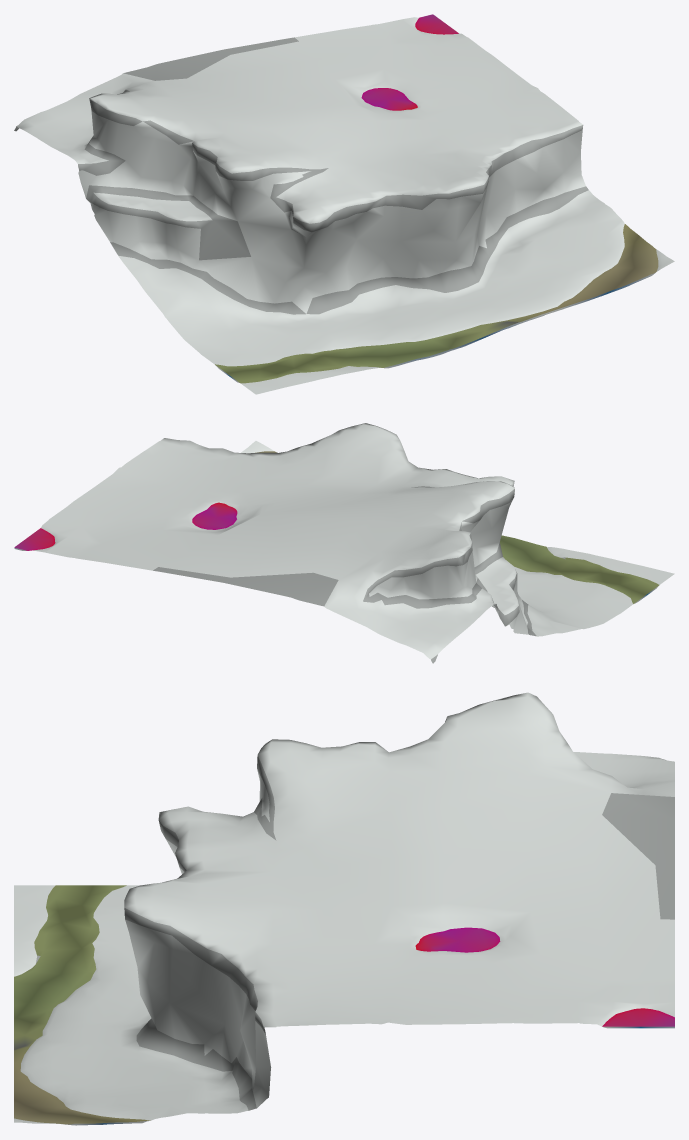
The picture shows the model from 3 angles, top to bottom: view 1: azimuth 30°, elevation 25°; view 2: azimuth 150°, elevation 25°; view 3: azimuth 270°, elevation 25°; orthographic projection. The views are drawn at different scales.
Visible parts, largest first — view 1: G:\FFXIV-MapTools\exports\r2f1\bg\ex1\01_roc_r2\fld\r2f1\bgp (×8); view 2: G:\FFXIV-MapTools\exports\r2f1\bg\ex1\01_roc_r2\fld\r2f1\bgp (×7); view 3: G:\FFXIV-MapTools\exports\r2f1\bg\ex1\01_roc_r2\fld\r2f1\bgp (×7).
Part boxes in pixels (x1=…): G:\FFXIV-MapTools\exports\r2f1\bg\ex1\01_roc_r2\fld\r2f1\bgp (×8): x1=14, y1=14, x2=674, y2=394; G:\FFXIV-MapTools\exports\r2f1\bg\ex1\01_roc_r2\fld\r2f1\bgp (×7): x1=14, y1=423, x2=674, y2=663; G:\FFXIV-MapTools\exports\r2f1\bg\ex1\01_roc_r2\fld\r2f1\bgp (×7): x1=14, y1=692, x2=674, y2=1124.
Bounding box in the file's own units: 128 × 46.62 × 128.
